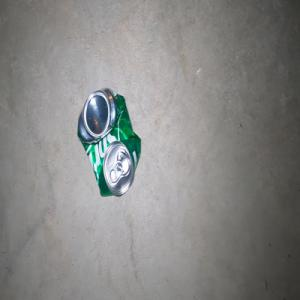SodaCan: (77, 87, 140, 196)
